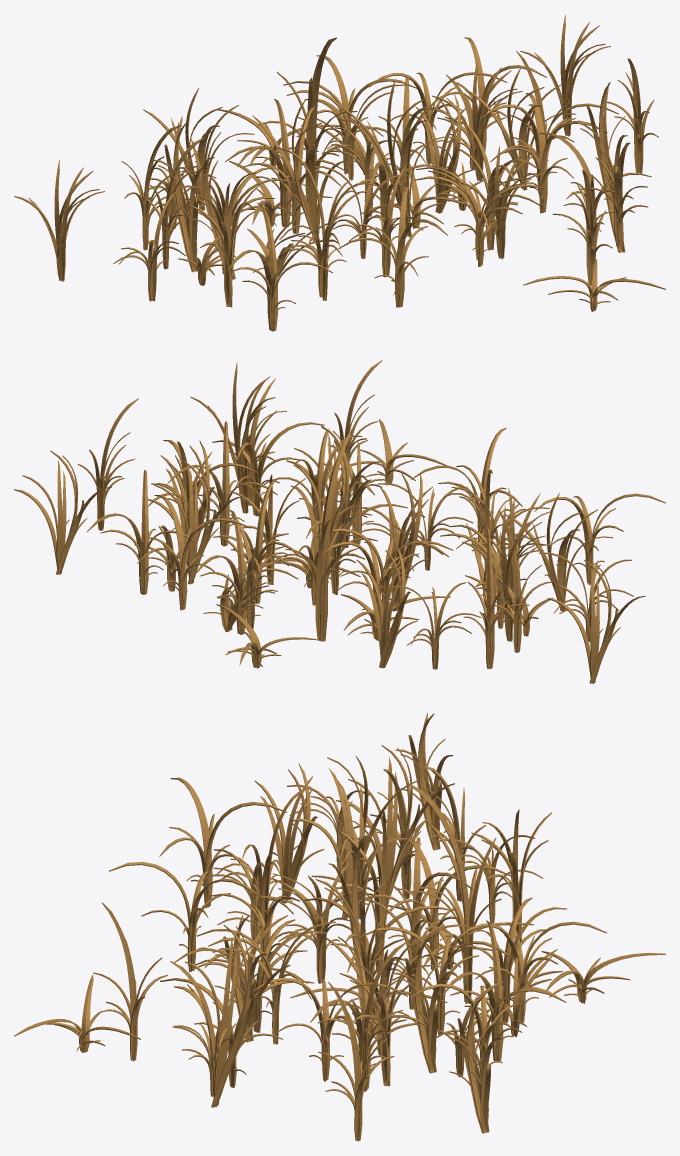
Rendered from grass2.FBX.
The picture shows the model from 3 angles, top to bottom: view 1: azimuth 30°, elevation 25°; view 2: azimuth 150°, elevation 25°; view 3: azimuth 270°, elevation 25°; orthographic projection. The views are drawn at different scales.
Parts seen in each view (by area): view 1: Scatter051; view 2: Scatter051; view 3: Scatter051.
Boxes of the visible parts, x1,y1,x2,y2 form: Scatter051: (14,15,665,331); Scatter051: (14,360,665,683); Scatter051: (14,713,665,1141).
Size of the model in its own units: 24.98 by 7.62 by 20.56.
